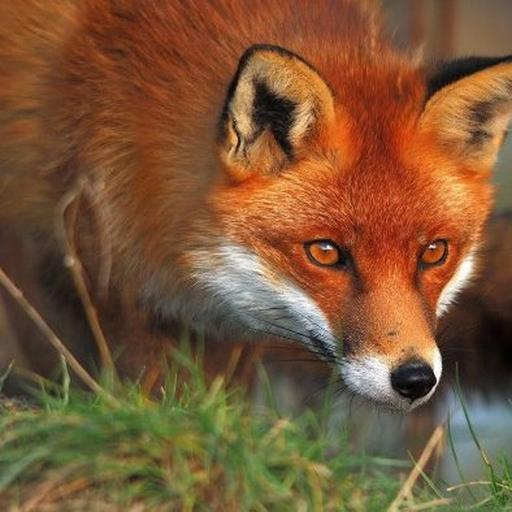Fox: (0, 0, 512, 410)
